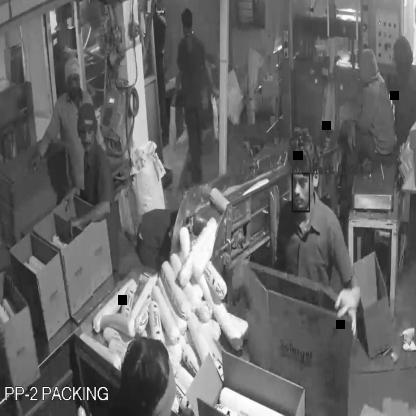glove: (330, 281, 368, 340)
no_glove: (64, 201, 124, 237), (19, 136, 53, 174), (54, 179, 92, 212), (202, 45, 220, 106), (169, 51, 185, 110), (346, 116, 361, 156)
